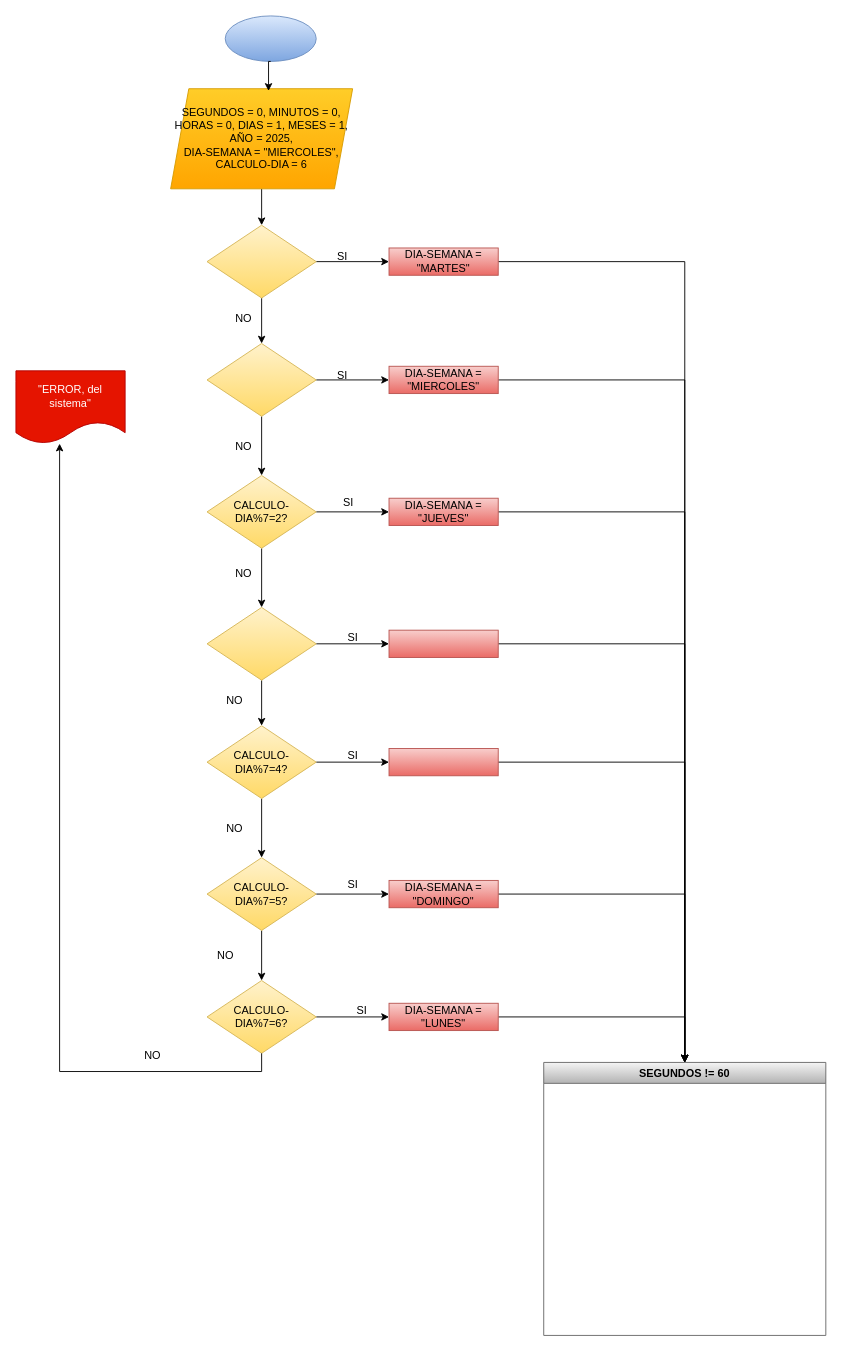
Some shapes in this 842 by 1351 pixel diagram are drawn without their labels. Here are the shapes that lost their labels. From the top down, the box of each, then its label:
(224, 15, 316, 61): INICIO
(206, 224, 316, 298): CALCULO-DIA%7=0?
(206, 343, 316, 416): CALCULO-DIA%7=1?
(206, 607, 316, 680): CALCULO-DIA%7=3?
(388, 629, 498, 657): DIA-SEMANA = "VIERNES"
(388, 748, 498, 776): DIA-SEMANA = "SABADO"
